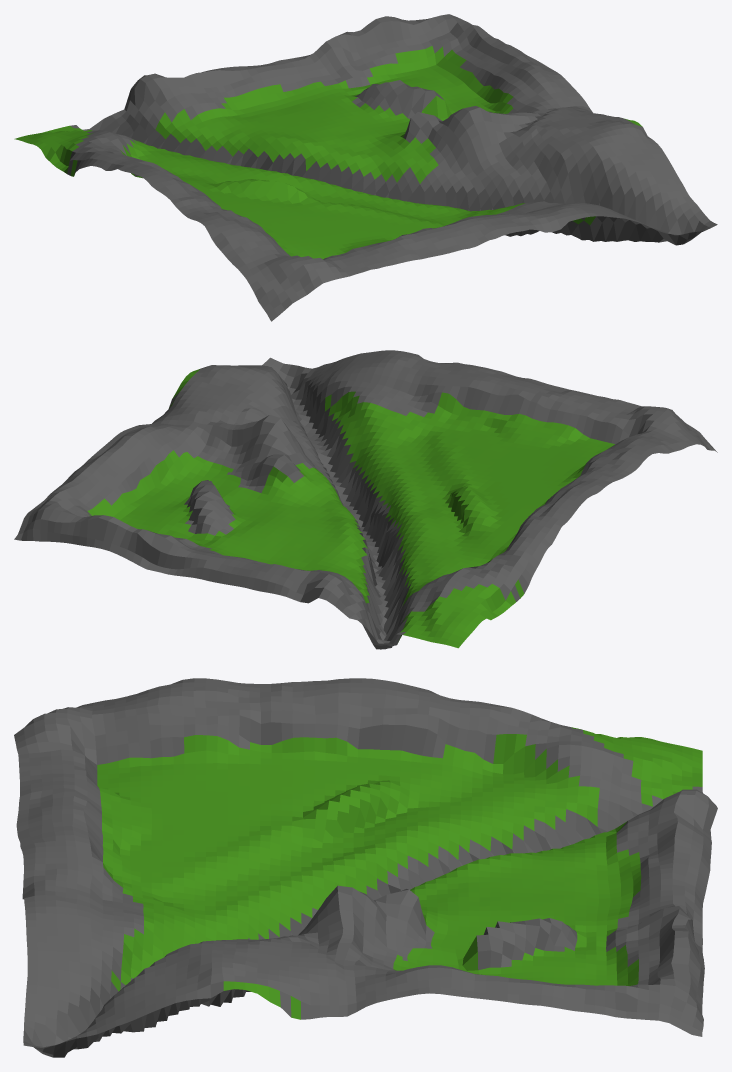
Rendered from Terrain.fbx.
The picture shows the model from 3 angles, top to bottom: view 1: azimuth 30°, elevation 25°; view 2: azimuth 150°, elevation 25°; view 3: azimuth 270°, elevation 25°; orthographic projection. The views are drawn at different scales.
Parts seen in each view (by area): view 1: Plane; view 2: Plane; view 3: Plane.
Part boxes in pixels (left/top/right/bottom): Plane: left=14, top=14, right=717, bottom=321; Plane: left=14, top=350, right=717, bottom=649; Plane: left=14, top=678, right=717, bottom=1057.
Bounding box in the file's own units: 11861 × 2481 × 12111.
